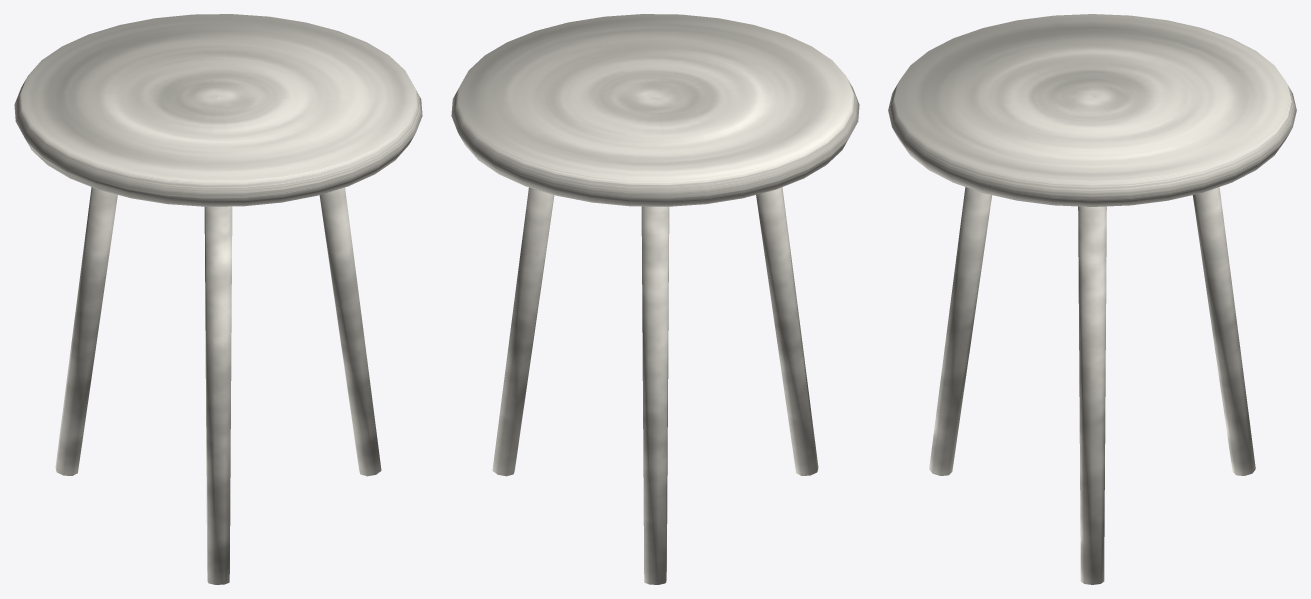
Rendered from side_table.glb.
3 views of the same model, side by side, from view 1: azimuth 30°, elevation 25°; view 2: azimuth 150°, elevation 25°; view 3: azimuth 270°, elevation 25° (orthographic).
Parts seen in each view (by area): view 1: SideTable; view 2: SideTable; view 3: SideTable.
Boxes of the visible parts, bbox=[...] form: SideTable: bbox=[14, 14, 422, 584]; SideTable: bbox=[451, 14, 859, 584]; SideTable: bbox=[888, 14, 1296, 584].
Bounding box in the file's own units: 0.56 × 0.6222 × 0.56.
Materials: 1 (1 with a texture image).
